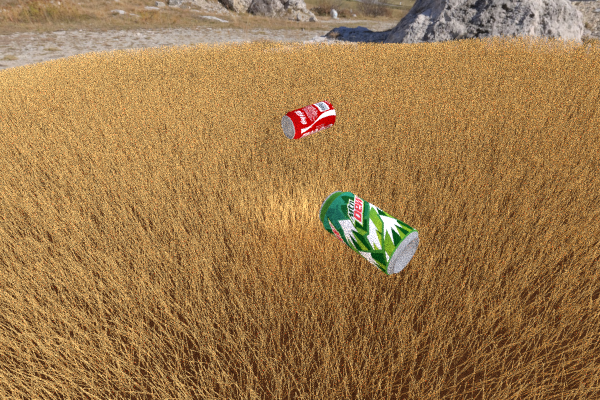bottle: (0, 271, 130, 359)
can: (318, 190, 419, 274), (281, 100, 335, 139)
